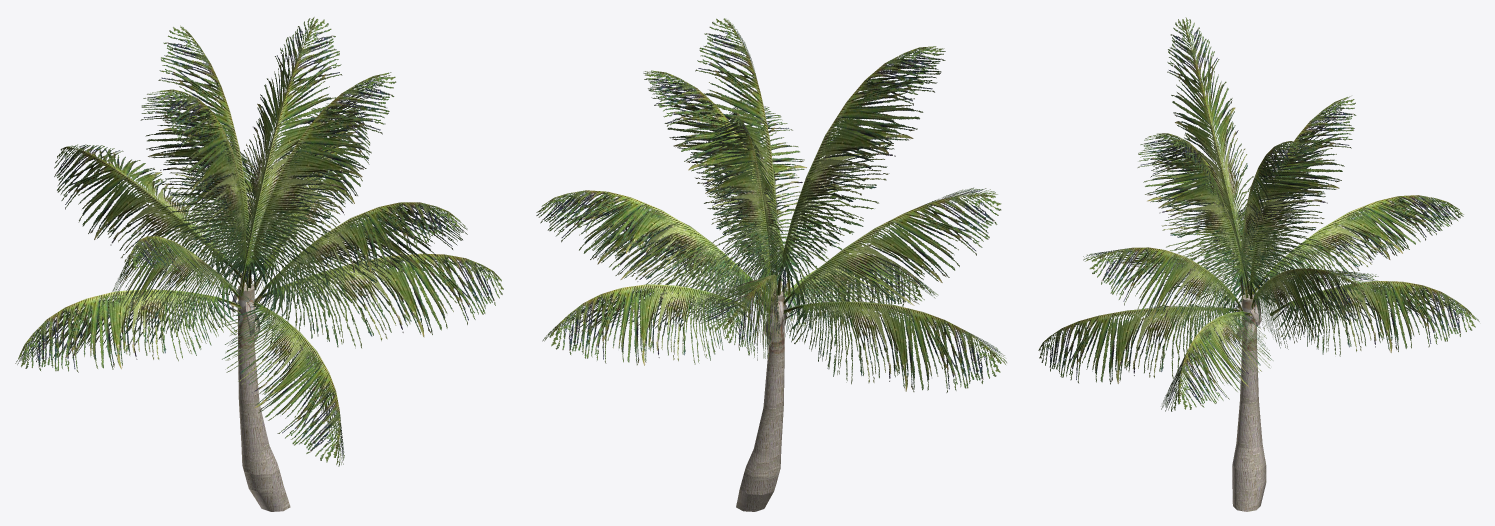
File: coco.glb
The picture shows the model from 3 angles, left to right: view 1: azimuth 30°, elevation 25°; view 2: azimuth 150°, elevation 25°; view 3: azimuth 270°, elevation 25°; orthographic projection. The views are drawn at different scales.
Parts seen in each view (by area): view 1: Mesh8 coconut_half1 Group2 coconut3_top1 W3D_Palma_coco___Da, Mesh32 W3D_Palma_coco___Darrell_Smith1 Model, Mesh7 Group1 W3D_Palma_coco___Darrell_Smith1 Model; view 2: Mesh8 coconut_half1 Group2 coconut3_top1 W3D_Palma_coco___Da, Mesh32 W3D_Palma_coco___Darrell_Smith1 Model, Mesh7 Group1 W3D_Palma_coco___Darrell_Smith1 Model; view 3: Mesh8 coconut_half1 Group2 coconut3_top1 W3D_Palma_coco___Da, Mesh32 W3D_Palma_coco___Darrell_Smith1 Model, Mesh7 Group1 W3D_Palma_coco___Darrell_Smith1 Model.
Boxes of the visible parts, box(x1,y1,x2,y2) form: Mesh8 coconut_half1 Group2 coconut3_top1 W3D_Palma_coco___Da: box(15, 17, 503, 466); Mesh32 W3D_Palma_coco___Darrell_Smith1 Model: box(238, 284, 290, 511); Mesh7 Group1 W3D_Palma_coco___Darrell_Smith1 Model: box(238, 288, 254, 348); Mesh8 coconut_half1 Group2 coconut3_top1 W3D_Palma_coco___Da: box(536, 18, 1006, 392); Mesh32 W3D_Palma_coco___Darrell_Smith1 Model: box(736, 291, 784, 511); Mesh7 Group1 W3D_Palma_coco___Darrell_Smith1 Model: box(768, 296, 784, 353); Mesh8 coconut_half1 Group2 coconut3_top1 W3D_Palma_coco___Da: box(1038, 17, 1479, 411); Mesh32 W3D_Palma_coco___Darrell_Smith1 Model: box(1232, 294, 1266, 511); Mesh7 Group1 W3D_Palma_coco___Darrell_Smith1 Model: box(1241, 298, 1256, 351).
Bounding box in the file's own units: 6.04 × 6.12 × 5.83.
Materials: 4 (4 with a texture image).
